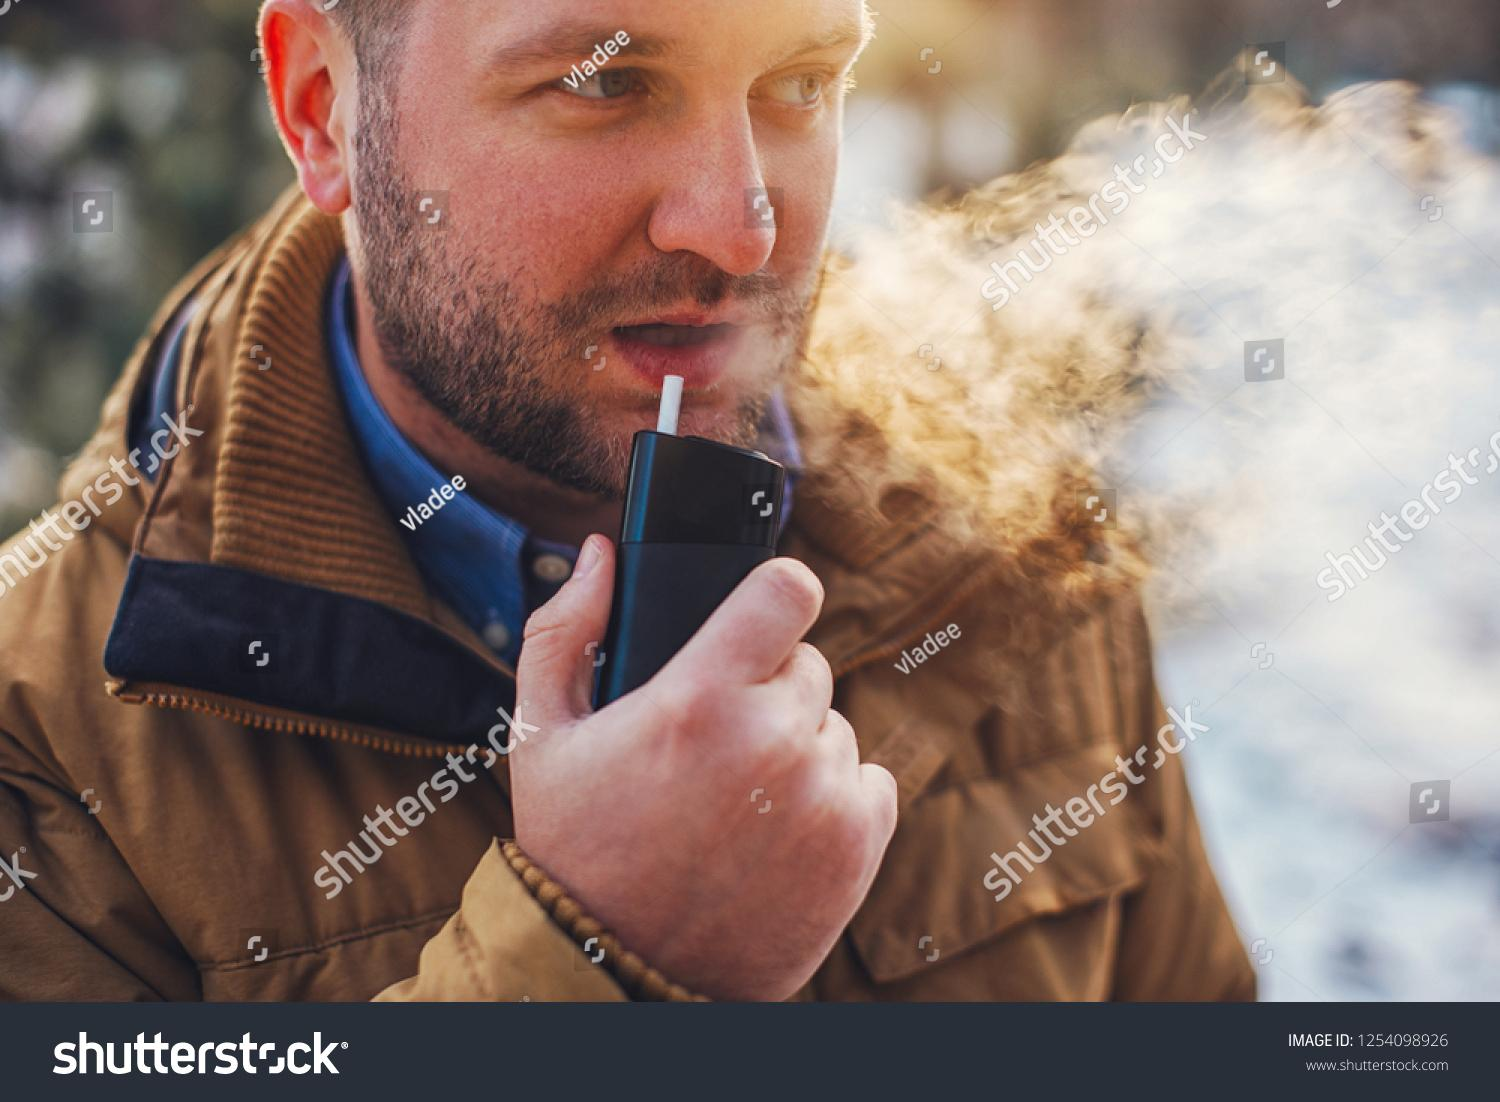iqos: (592, 375, 788, 711)
